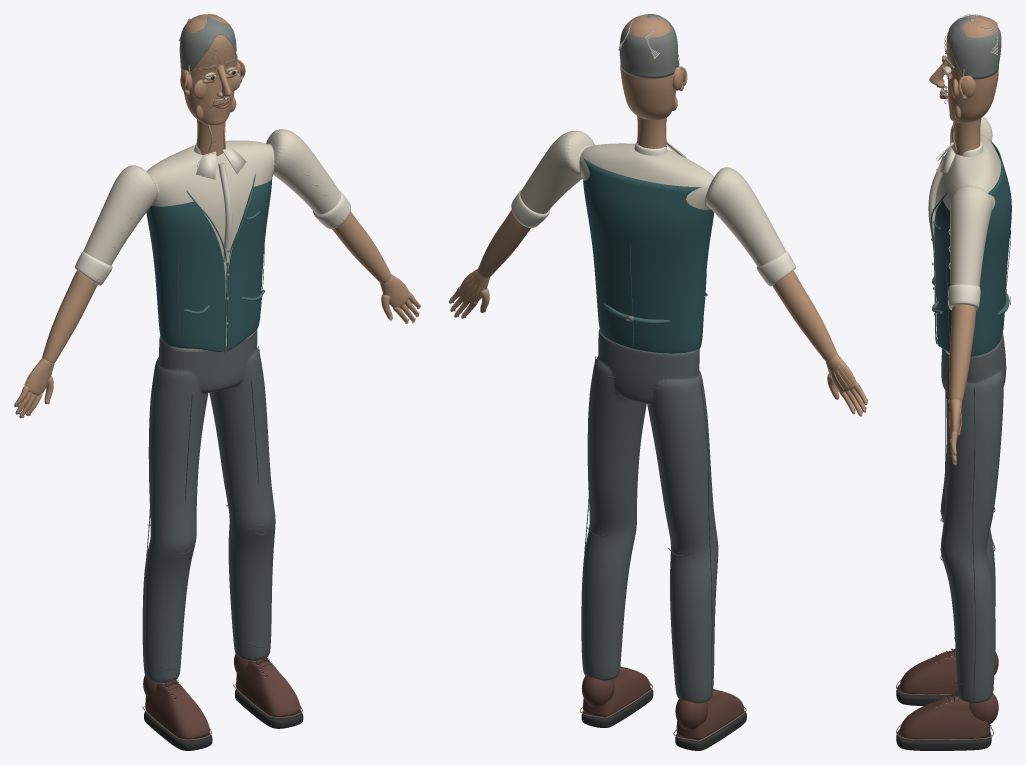
The model's file is entry-03-r01.glb.
The picture shows the model from 3 angles, left to right: view 1: azimuth 30°, elevation 25°; view 2: azimuth 150°, elevation 25°; view 3: azimuth 270°, elevation 25°; orthographic projection. The views are drawn at different scales.
Visible parts, largest first — view 1: 06 trousers | 17 graphite twill, 05 waistcoat | 15 midnight teal wool, 04 shirt | 12 oatmeal cotton, 01 anatomy | 01 warm olive complexion, 07 shoes | 19 aubergine brown leather, 02 face | 01 warm olive complexion, 04 shirt | 14 collar facing, 07 shoes | 20 charcoal soles, 03 hair | 10 dark silver roots, 05 waistcoat | 16 wool piping, 06 trousers | 18 trousers seams; view 2: 06 trousers | 17 graphite twill, 05 waistcoat | 15 midnight teal wool, 04 shirt | 12 oatmeal cotton, 01 anatomy | 01 warm olive complexion, 07 shoes | 19 aubergine brown leather, 02 face | 01 warm olive complexion, 03 hair | 10 dark silver roots, 04 shirt | 14 collar facing, 07 shoes | 20 charcoal soles, 06 trousers | 18 trousers seams; view 3: 06 trousers | 17 graphite twill, 05 waistcoat | 15 midnight teal wool, 04 shirt | 12 oatmeal cotton, 07 shoes | 19 aubergine brown leather, 01 anatomy | 01 warm olive complexion, 02 face | 01 warm olive complexion, 03 hair | 10 dark silver roots, 07 shoes | 20 charcoal soles, 04 shirt | 14 collar facing, 05 waistcoat | 16 wool piping, 06 trousers | 18 trousers seams, 07 shoes | 21 leather stitching (+1 smaller).
Boxes of the visible parts, x1=… form: 06 trousers | 17 graphite twill: x1=142, y1=329, x2=275, y2=682; 05 waistcoat | 15 midnight teal wool: x1=146, y1=178, x2=272, y2=351; 04 shirt | 12 oatmeal cotton: x1=83, y1=129, x2=341, y2=351; 01 anatomy | 01 warm olive complexion: x1=14, y1=119, x2=420, y2=418; 07 shoes | 19 aubergine brown leather: x1=143, y1=654, x2=300, y2=739; 02 face | 01 warm olive complexion: x1=180, y1=14, x2=245, y2=125; 04 shirt | 14 collar facing: x1=74, y1=142, x2=350, y2=285; 07 shoes | 20 charcoal soles: x1=144, y1=653, x2=303, y2=750; 03 hair | 10 dark silver roots: x1=179, y1=16, x2=236, y2=99; 05 waistcoat | 16 wool piping: x1=178, y1=173, x2=265, y2=352; 06 trousers | 18 trousers seams: x1=144, y1=345, x2=270, y2=674; 06 trousers | 17 graphite twill: x1=581, y1=329, x2=718, y2=703; 05 waistcoat | 15 midnight teal wool: x1=583, y1=158, x2=714, y2=353; 04 shirt | 12 oatmeal cotton: x1=520, y1=130, x2=785, y2=266; 01 anatomy | 01 warm olive complexion: x1=449, y1=116, x2=867, y2=416; 07 shoes | 19 aubergine brown leather: x1=581, y1=666, x2=744, y2=739; 02 face | 01 warm olive complexion: x1=620, y1=14, x2=687, y2=120; 03 hair | 10 dark silver roots: x1=619, y1=14, x2=678, y2=78; 04 shirt | 14 collar facing: x1=511, y1=141, x2=795, y2=286; 07 shoes | 20 charcoal soles: x1=581, y1=667, x2=746, y2=750; 06 trousers | 18 trousers seams: x1=584, y1=356, x2=712, y2=695; 06 trousers | 17 graphite twill: x1=940, y1=331, x2=1006, y2=703; 05 waistcoat | 15 midnight teal wool: x1=934, y1=140, x2=1011, y2=356; 04 shirt | 12 oatmeal cotton: x1=935, y1=116, x2=1001, y2=354; 07 shoes | 19 aubergine brown leather: x1=900, y1=649, x2=998, y2=740; 01 anatomy | 01 warm olive complexion: x1=949, y1=118, x2=981, y2=465; 02 face | 01 warm olive complexion: x1=929, y1=15, x2=998, y2=123; 03 hair | 10 dark silver roots: x1=945, y1=17, x2=1001, y2=79; 07 shoes | 20 charcoal soles: x1=896, y1=648, x2=991, y2=750; 04 shirt | 14 collar facing: x1=928, y1=141, x2=982, y2=310; 05 waistcoat | 16 wool piping: x1=930, y1=192, x2=1010, y2=344; 06 trousers | 18 trousers seams: x1=940, y1=374, x2=1004, y2=699; 07 shoes | 21 leather stitching: x1=896, y1=680, x2=993, y2=740.
Size of the model in its own units: 1.19 by 1.94 by 0.2904.
